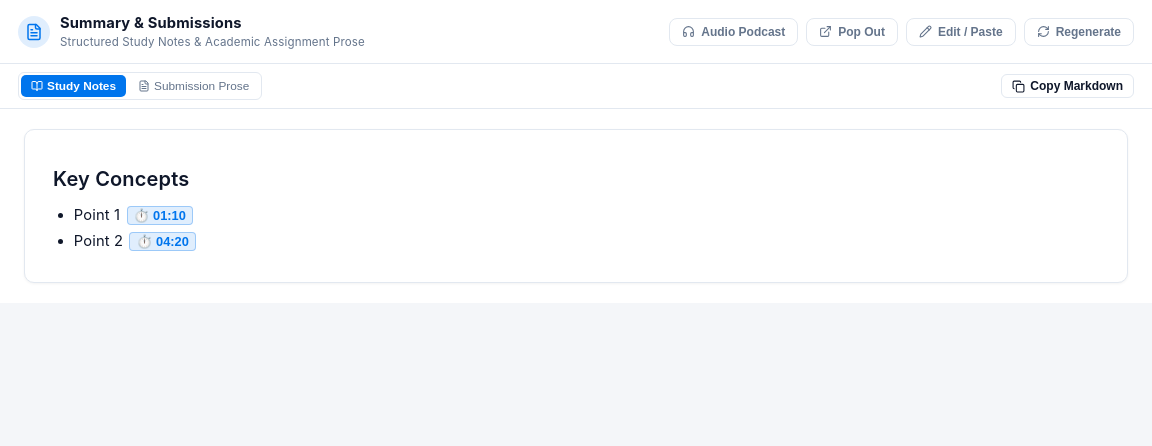
Scenario: LectureSummary component › toggles the podcast audio player when clicking Audio Podcast button
Click the podcast button to open the audio player
Click the button "Audio Podcast" at (734, 32), box [669, 18, 798, 46]
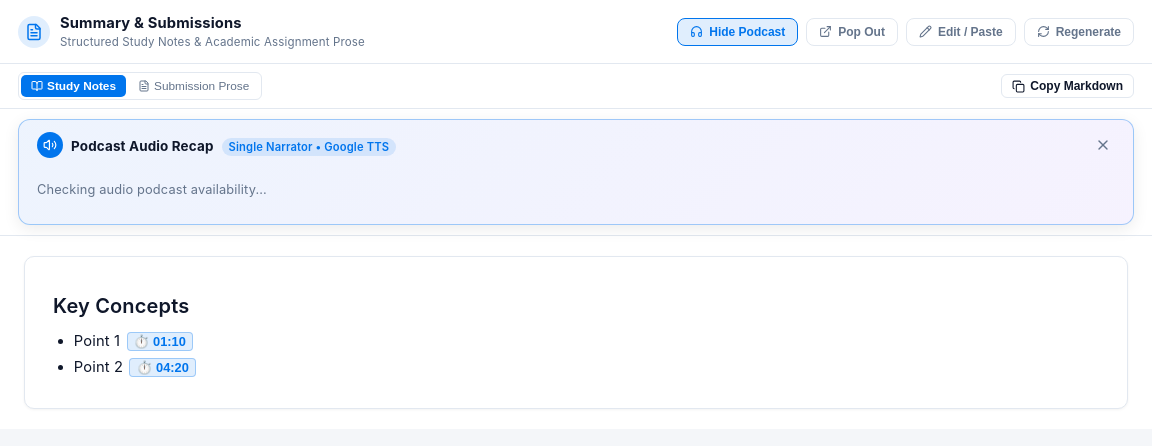
Expected: the element with test id "lecture-podcast-dock" is shown, [0, 109, 1151, 236]
Expected: the element with test id "lecture-podcast-player" is shown, [18, 119, 1134, 224]
Expected: the text "Podcast Audio Recap" is shown, [71, 138, 214, 154]
Click again to close / hide the player
Click the button "Hide Podcast" at (738, 32), box [677, 18, 798, 46]
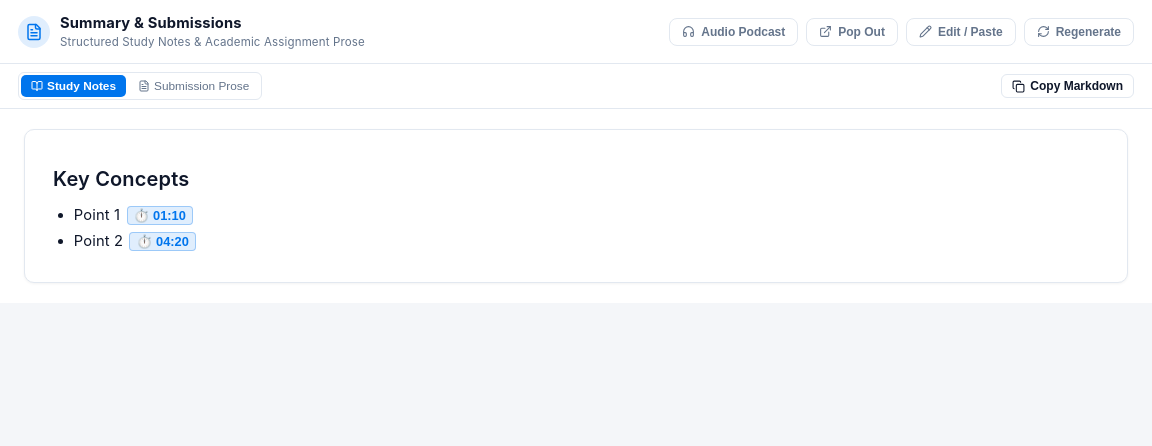
Expected: the element with test id "lecture-podcast-dock" is gone
Expected: the element with test id "lecture-podcast-player" is gone
